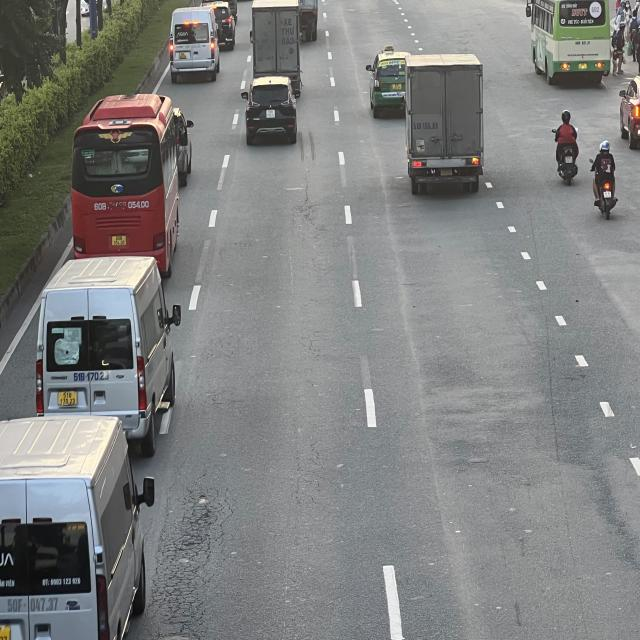car: (244, 76, 302, 142), (364, 50, 408, 115)
coach: (70, 91, 187, 272), (528, 0, 614, 80)
truck: (403, 51, 483, 190), (250, 2, 302, 88)
van: (0, 419, 147, 640), (37, 252, 181, 449), (170, 3, 222, 78)
